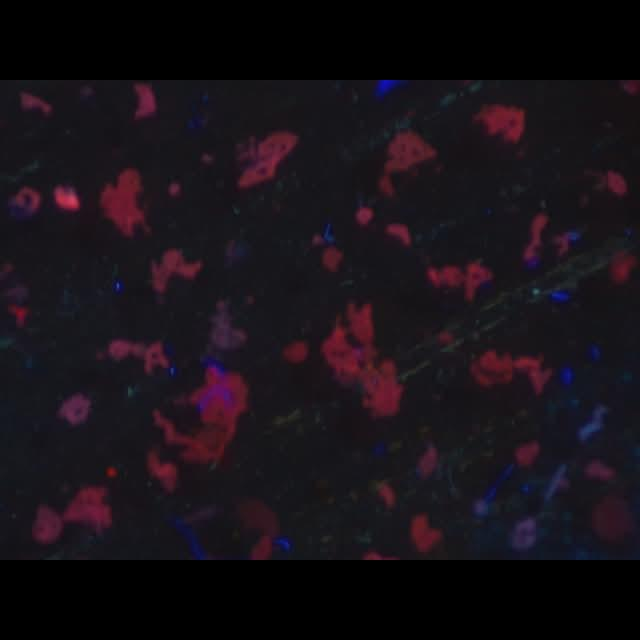Fragment: (323, 304, 403, 422), (236, 132, 296, 188), (105, 338, 171, 374)
